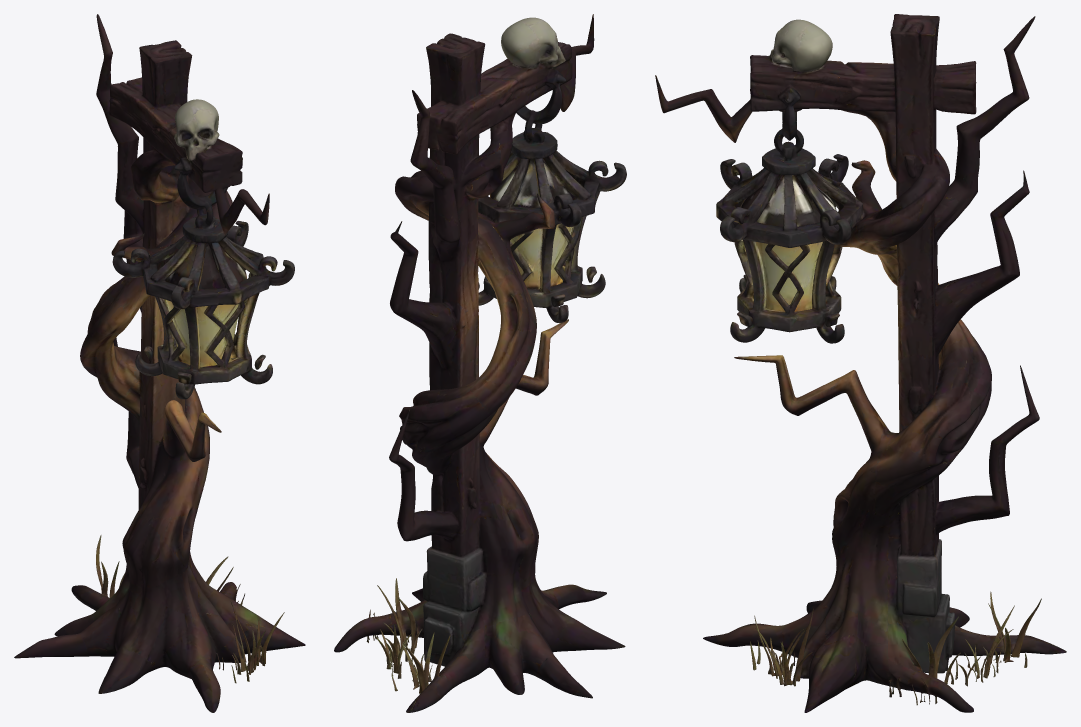
The model's file is skull_lantern.glb.
The picture shows the model from 3 angles, left to right: view 1: azimuth 30°, elevation 25°; view 2: azimuth 150°, elevation 25°; view 3: azimuth 270°, elevation 25°; orthographic projection. The views are drawn at different scales.
Bounding box in the file's own units: 0.7941 × 1.9 × 1.11.
1 material, 1 textured.
